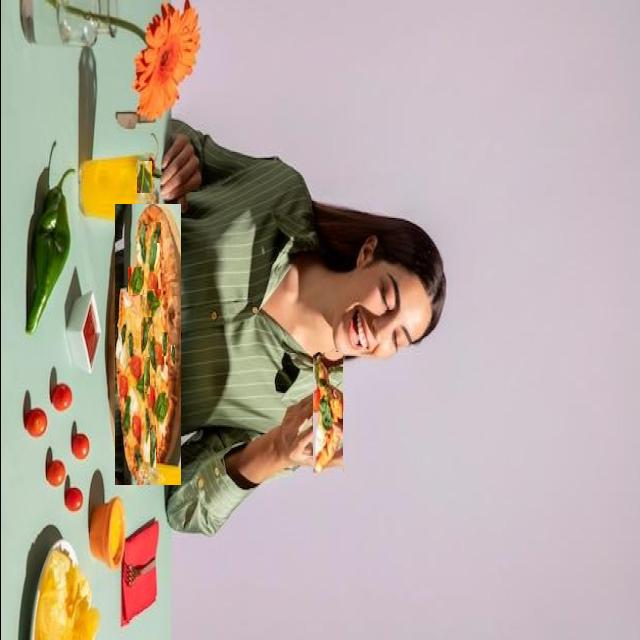basil: (136, 161, 151, 193), (127, 267, 143, 295), (323, 399, 337, 431), (138, 418, 148, 460), (146, 289, 160, 317), (164, 254, 172, 294), (138, 315, 146, 355), (149, 425, 155, 468), (144, 246, 151, 280), (143, 357, 149, 394), (336, 356, 343, 384), (161, 332, 167, 357), (153, 222, 160, 243), (170, 345, 174, 365)
pizza: (114, 204, 180, 485), (312, 352, 342, 481)
